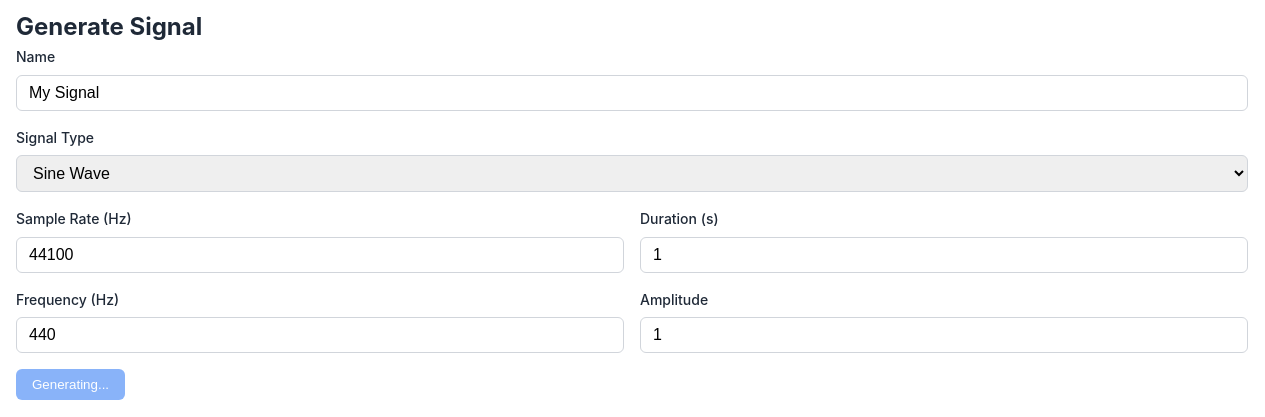
Test: SignalGenerator › disables frequency input for noise type
Step 1. Select "Noise" in the dropdown labelled "Signal Type" → {"x": 632, "y": 174}, box [16,155,1248,192]
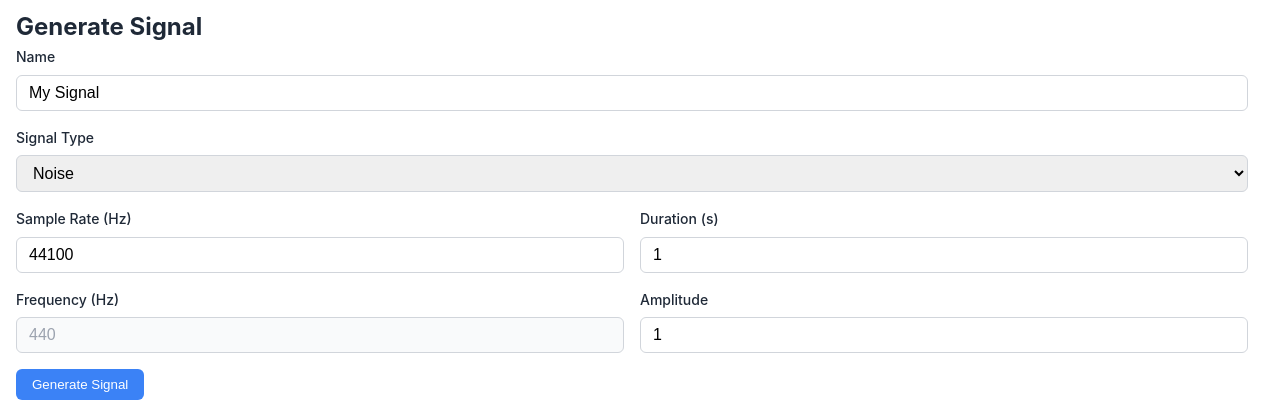
Expected: the number field labelled "Frequency (Hz)" is disabled, [16,317,624,353]
